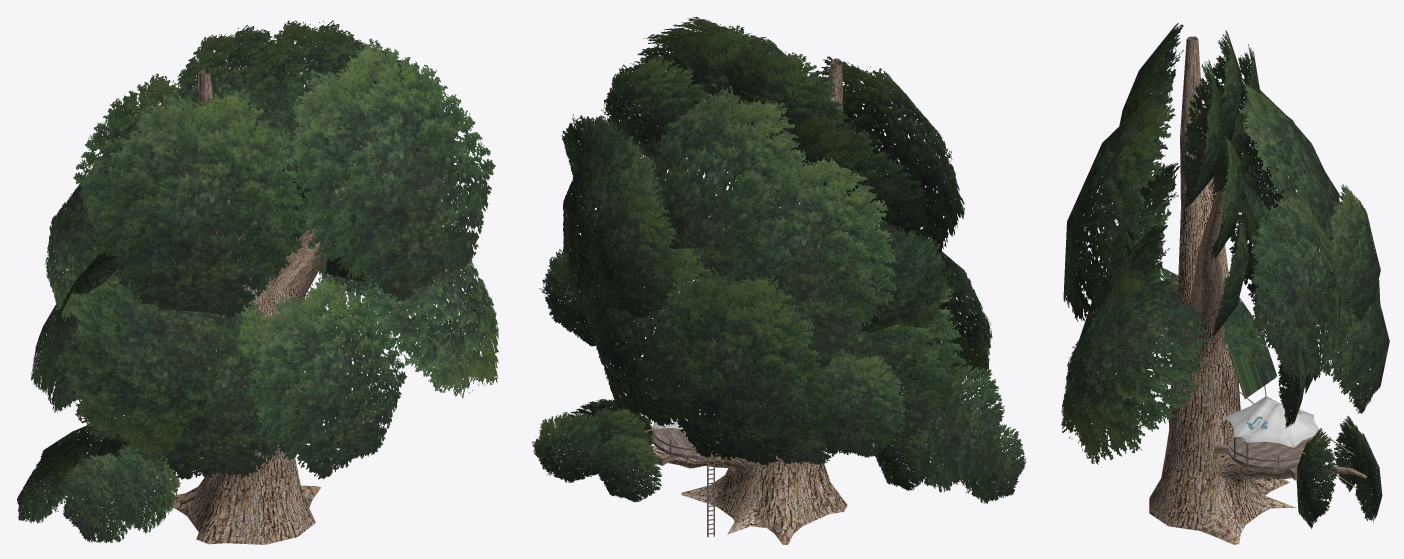
The model's file is tree1_gBIGTREE1.obj.
3 views of the same model, side by side, from view 1: azimuth 30°, elevation 25°; view 2: azimuth 150°, elevation 25°; view 3: azimuth 270°, elevation 25° (orthographic). The views are drawn at different scales.
Parts seen in each view (by area): view 1: tree1:polySurface165_0, tree1:polySurface147_0; view 2: tree1:polySurface165_0, tree1:polySurface147_0, tree1:polySurface166_0; view 3: tree1:polySurface165_0, tree1:polySurface147_0, tree1:polySurface166_0, tree1:stand_tent11_0, tree1:stand_tent12_0.
Part boxes in pixels (<box>): tree1:polySurface165_0: <box>17,20,498,542</box>; tree1:polySurface147_0: <box>132,69,372,544</box>; tree1:polySurface165_0: <box>532,16,1026,503</box>; tree1:polySurface147_0: <box>587,59,946,544</box>; tree1:polySurface166_0: <box>650,424,756,465</box>; tree1:polySurface165_0: <box>1061,23,1389,528</box>; tree1:polySurface147_0: <box>1149,36,1367,544</box>; tree1:polySurface166_0: <box>1214,432,1333,480</box>; tree1:stand_tent11_0: <box>1224,396,1321,447</box>; tree1:stand_tent12_0: <box>1227,396,1323,447</box>.
Bounding box in the file's own units: 784 × 781 × 500.
